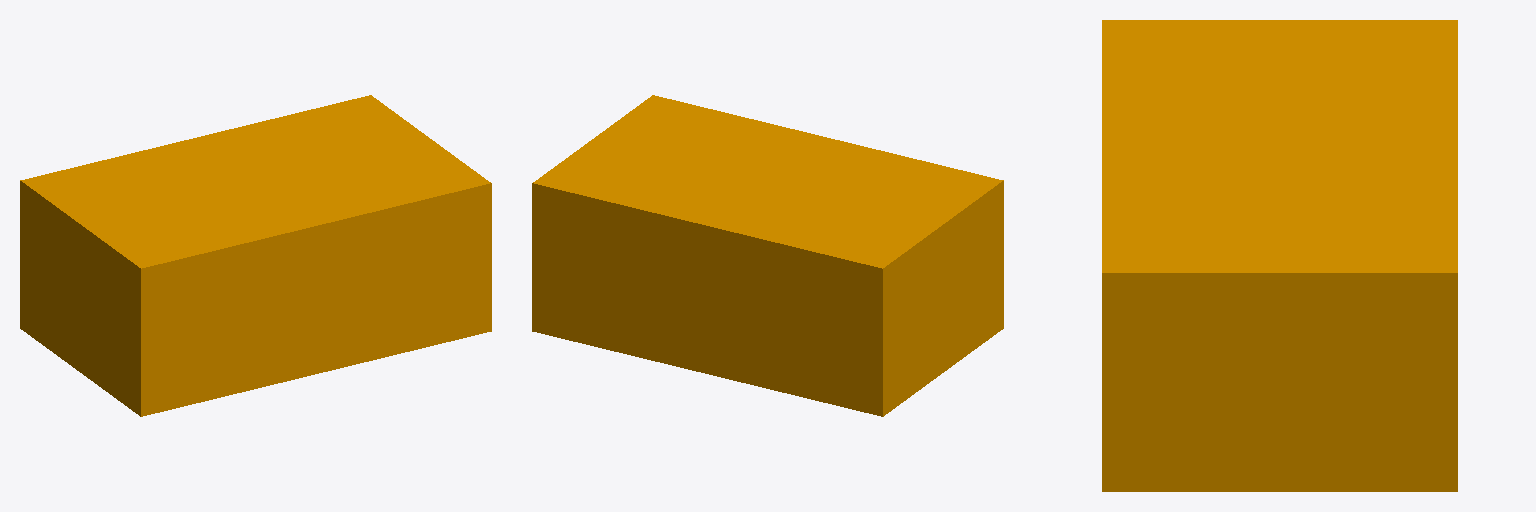
robot.urdf — 2x2:
<?xml version='1.0' encoding='UTF-8'?>
<robot name="2x2">
  <link name="base_link">
    <inertial>
      <origin xyz="0.0 0.0 0.0" rpy="0.0 0.0 0.0"/>
      <mass value="0.01"/>
      <inertia ixx="0.1" ixy="0.0" ixz="0.0" iyy="0.1" iyz="0.0" izz="0.1"/>
    </inertial>
    <visual>
      <geometry>
        <box size="0.047 0.028 0.019"/>
      </geometry>
      <material name=""/>
      <origin xyz="0.0 0.0 0.0" rpy="0.0 0.0 0.0"/>
    </visual>
    <collision>
      <geometry>
        <box size="0.047 0.028 0.019"/>
      </geometry>
      <origin xyz="0.0 0.0 0.0" rpy="0.0 0.0 0.0"/>
    </collision>
  </link>
  <material name="">
    <color rgba="0.84  0.706 0.196 1.   "/>
  </material>
  <contact>
    <lateral_friction value="1.0"/>
    <rolling_friction value="0.0"/>
    <contact_cfm value="0.0"/>
    <contact_erp value="1.0"/>
  </contact>
</robot>

--- Facts derived from the render (not from the file) ---
Views: 3 orthographic renders of the robot side by side, from view 1: azimuth 30°, elevation 25°; view 2: azimuth 150°, elevation 25°; view 3: azimuth 270°, elevation 25°.
Model 2x2 with 1 links and 0 joints (none), rooted at base_link, posed every joint at zero.
Links seen in each view (by area): view 1: base_link; view 2: base_link; view 3: base_link.
Boxes of the visible links, <box> form: base_link: <box>20,95,491,416</box>; base_link: <box>532,95,1003,416</box>; base_link: <box>1102,20,1457,491</box>.
Bounding box of the posed robot: 0.047 × 0.028 × 0.019 m (x, y, z).
Geometry: primitives only (box / cylinder / sphere), no mesh files.